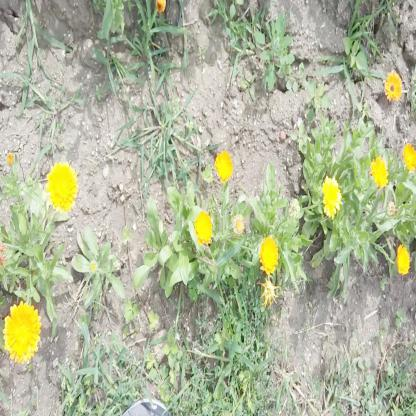marigold: (4, 302, 40, 363), (45, 162, 76, 210), (324, 176, 344, 214), (258, 238, 277, 273), (384, 69, 404, 102), (368, 156, 390, 186), (193, 212, 212, 245), (395, 240, 411, 278), (215, 148, 233, 180), (401, 141, 416, 173)
